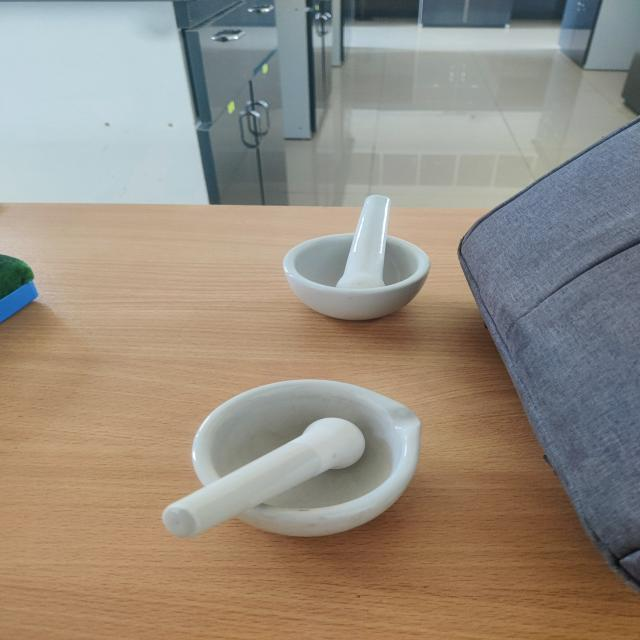Porcelain_Mortar Pestle: (128, 359, 463, 570), (256, 171, 474, 330)
